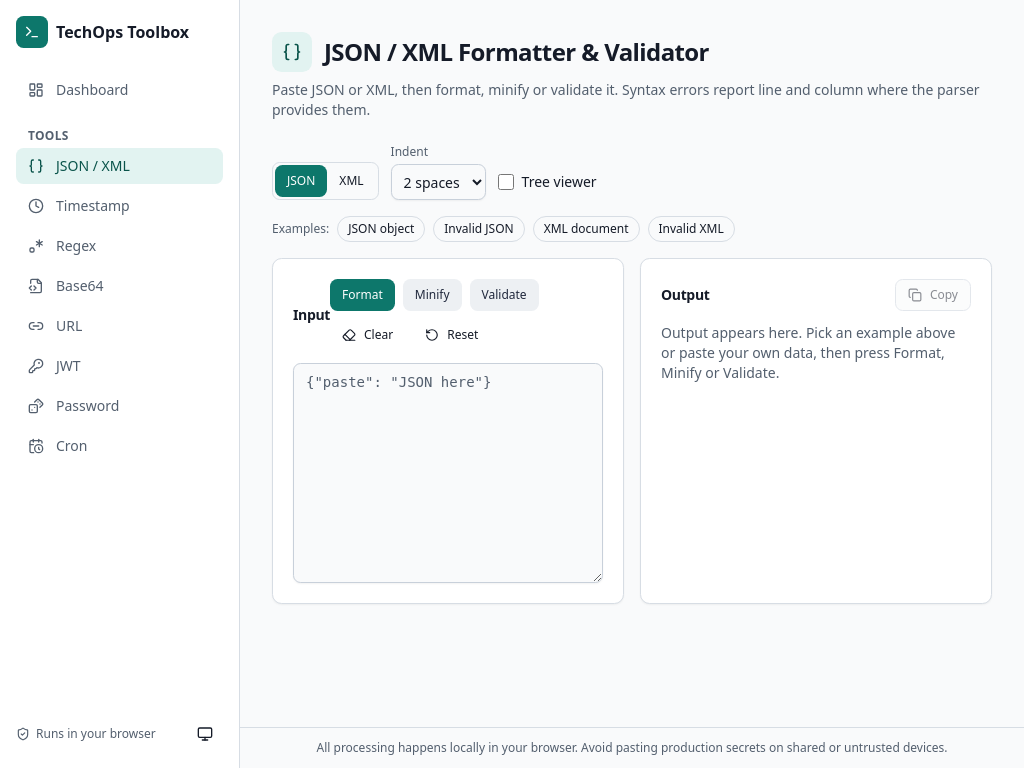
JSON / XML page › validates XML in XML mode
Click the button "XML".
click(352, 181)  # box [327,165,376,197]
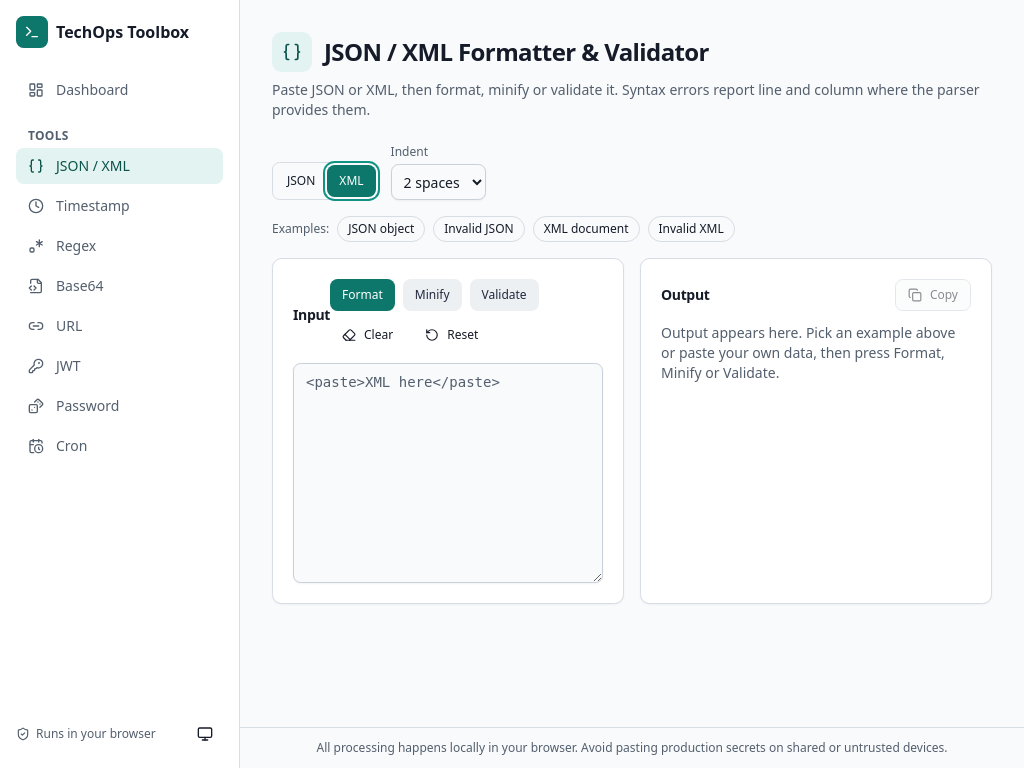
Click the text box named "Input".
click(448, 473)  # box [293,363,603,583]
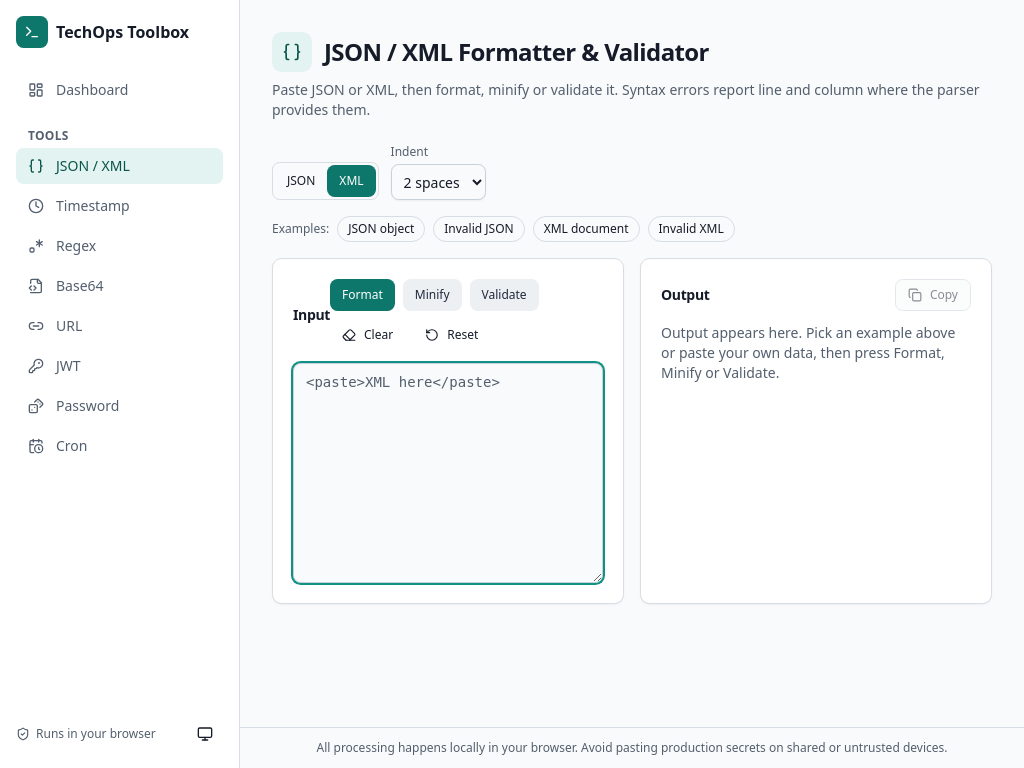
Type keys "<a><b></a>"
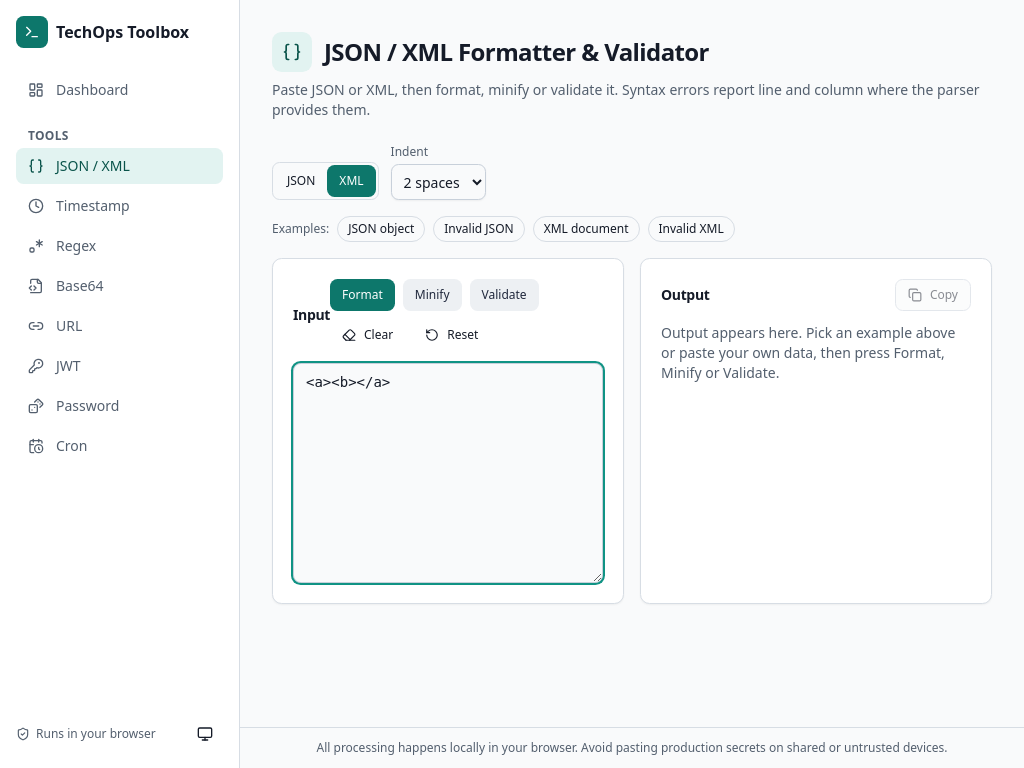
Click the button "Validate".
click(504, 295)  # box [470,279,539,311]
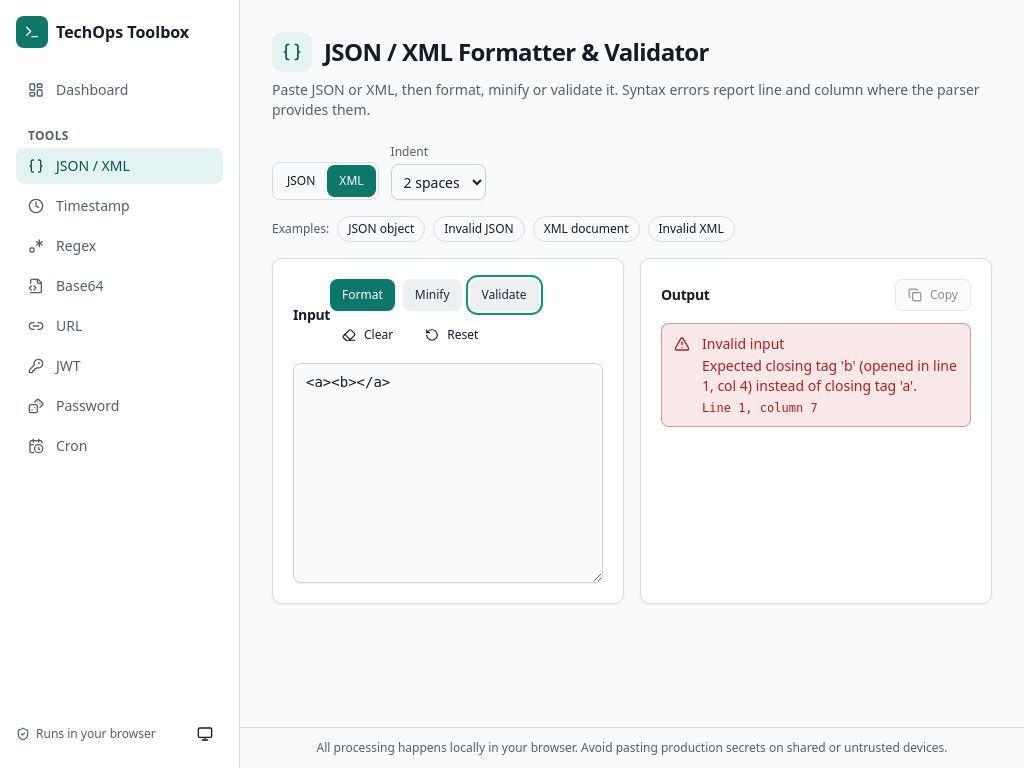
Expected: the message shows "line 1", [702,356,957,395]
